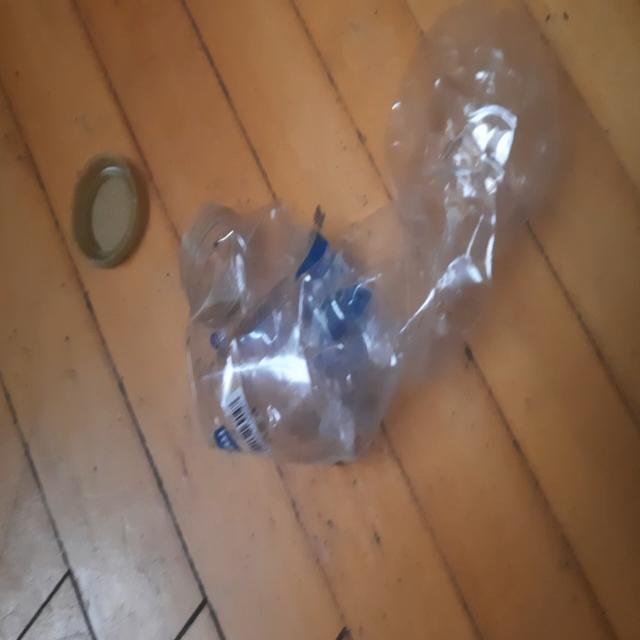Plastic: (181, 1, 563, 466)
